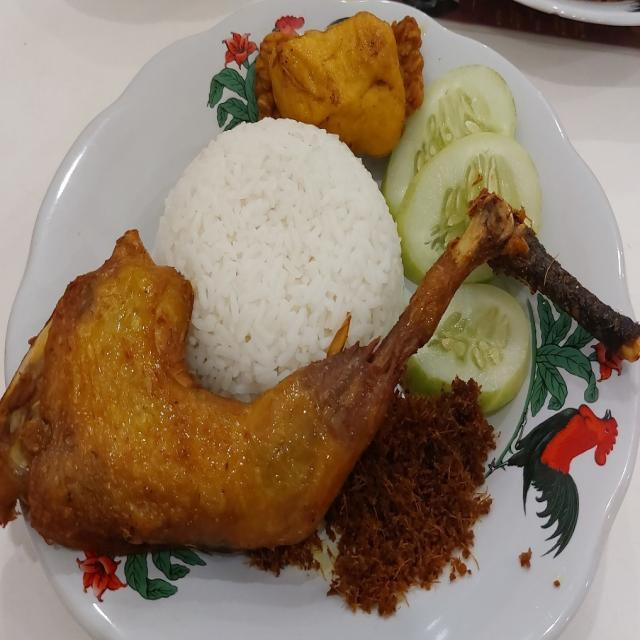ayam_goreng: (23, 232, 536, 572)
